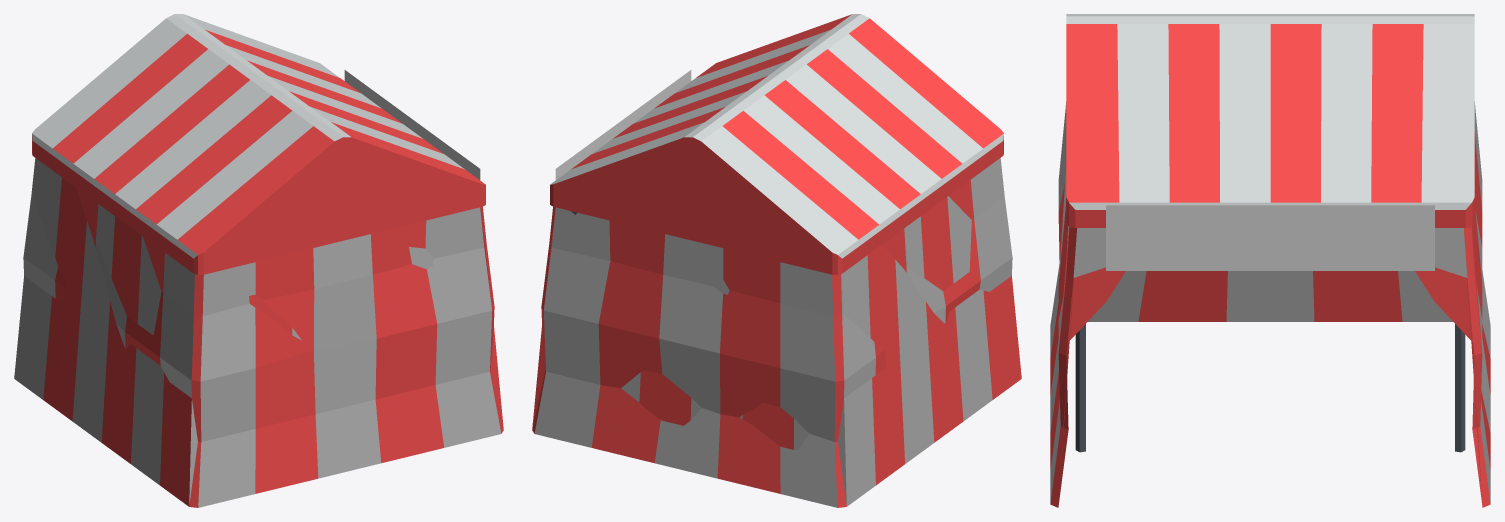
The model's file is rowyataired.fbx.
3 views of the same model, side by side, from view 1: azimuth 30°, elevation 25°; view 2: azimuth 150°, elevation 25°; view 3: azimuth 270°, elevation 25° (orthographic). The views are drawn at different scales.
Visible parts, largest first — view 1: 立方体.001, 立方体, 立方体.003, 平面; view 2: 立方体.001, 立方体, 立方体.003, 平面; view 3: 立方体, 立方体.001, 平面, 円柱, 立方体.003.
Boxes of the visible parts, x1=… form: 立方体.001: x1=23, y1=158, x2=503, y2=507; 立方体: x1=32, y1=14, x2=485, y2=274; 立方体.003: x1=14, y1=158, x2=503, y2=506; 平面: x1=344, y1=70, x2=480, y2=179; 立方体.001: x1=532, y1=158, x2=1012, y2=507; 立方体: x1=550, y1=14, x2=1003, y2=274; 立方体.003: x1=532, y1=196, x2=1021, y2=506; 平面: x1=555, y1=70, x2=691, y2=179; 立方体: x1=1066, y1=14, x2=1474, y2=227; 立方体.001: x1=1050, y1=101, x2=1490, y2=507; 平面: x1=1106, y1=205, x2=1434, y2=270; 円柱: x1=1075, y1=324, x2=1465, y2=452; 立方体.003: x1=1058, y1=278, x2=1482, y2=501.
Bounding box in the file's own units: 216 × 215 × 216.
